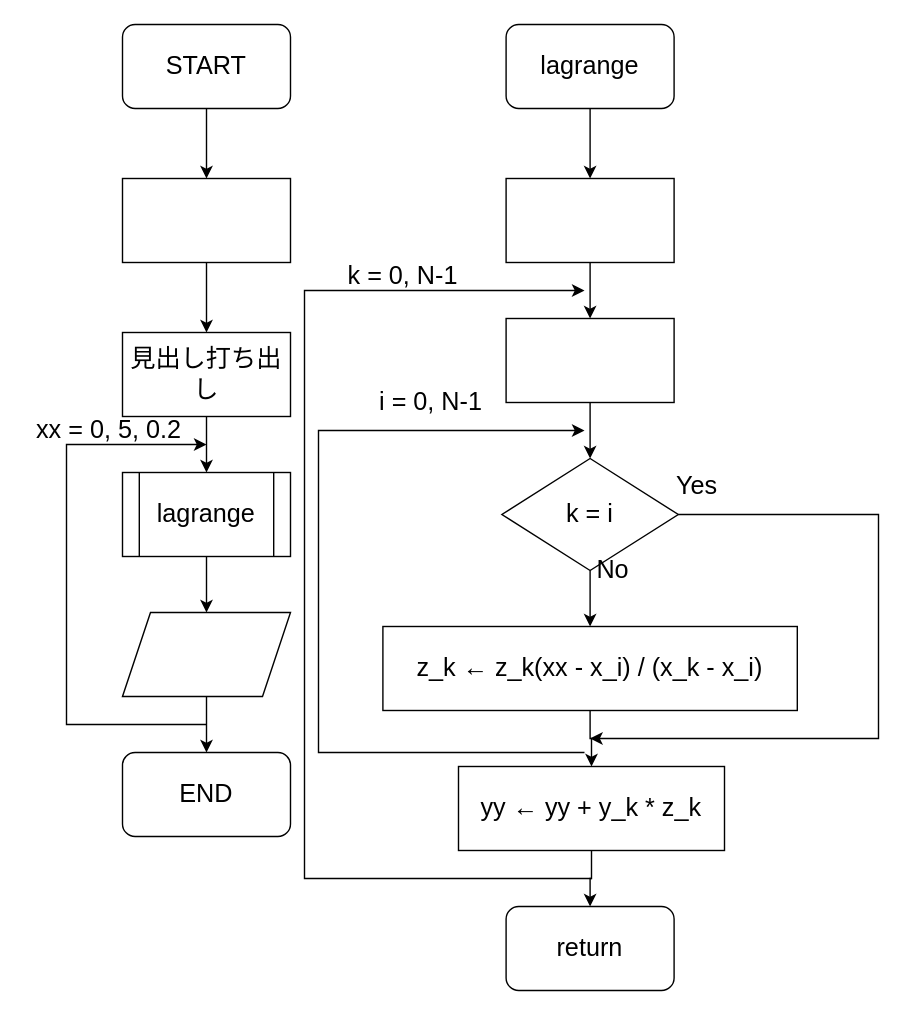
This 914x1015 diagram has some shape labels left out. The shapes that lost their labels are listed below. From the top down, each one's centre as x and y in pixels, then its label:
At pixel 205 219: "初期設定".
At pixel 589 219: "yy ← 0".
At pixel 589 359: "z_k ← 1".
At pixel 205 653: "補間結果打ち出し".
